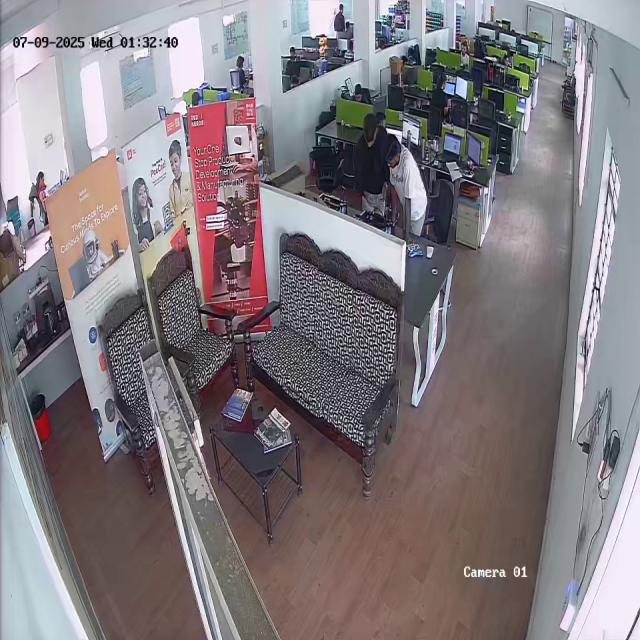person: (381, 134, 429, 237), (350, 112, 387, 215), (430, 74, 450, 114), (34, 171, 54, 208), (351, 83, 368, 104)
